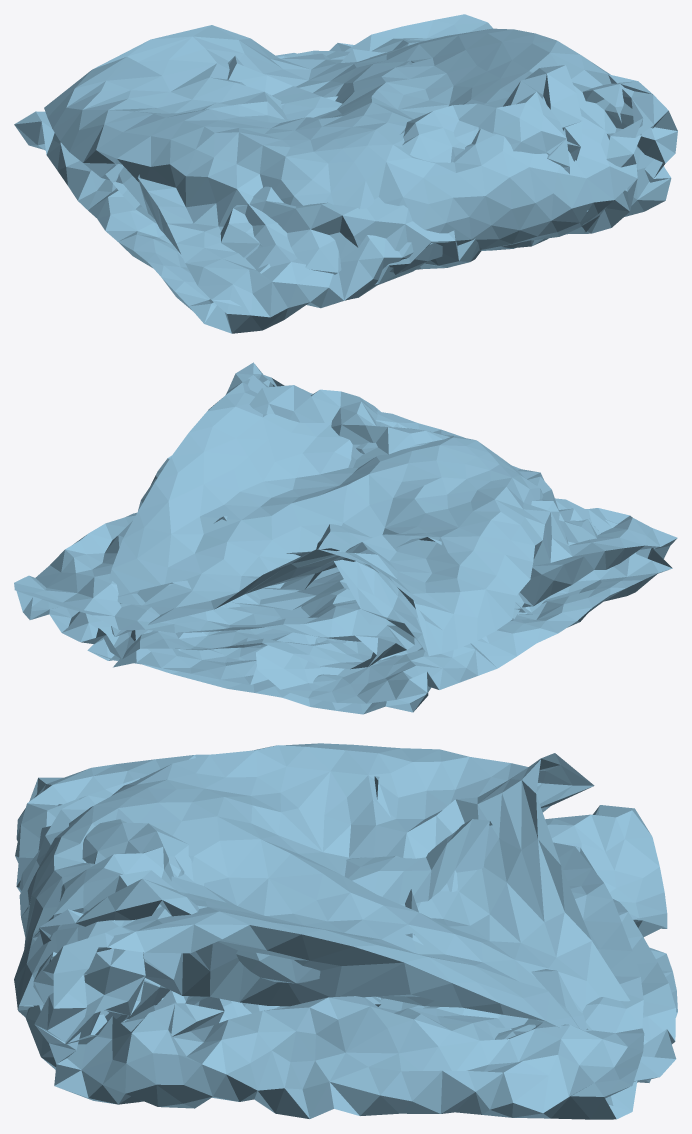
The model's file is frame_20.glb.
3 renders of one model, top to bottom at view 1: azimuth 30°, elevation 25°; view 2: azimuth 150°, elevation 25°; view 3: azimuth 270°, elevation 25°, orthographic. The views are drawn at different scales.
Parts seen in each view (by area): view 1: frame_20.obj; view 2: frame_20.obj; view 3: frame_20.obj.
Part boxes in pixels (x1,y1,x2,y2): frame_20.obj: (14, 14, 677, 333); frame_20.obj: (14, 362, 677, 714); frame_20.obj: (14, 743, 677, 1119).
Size of the model in its own units: 1.02 by 0.3042 by 0.9175.
